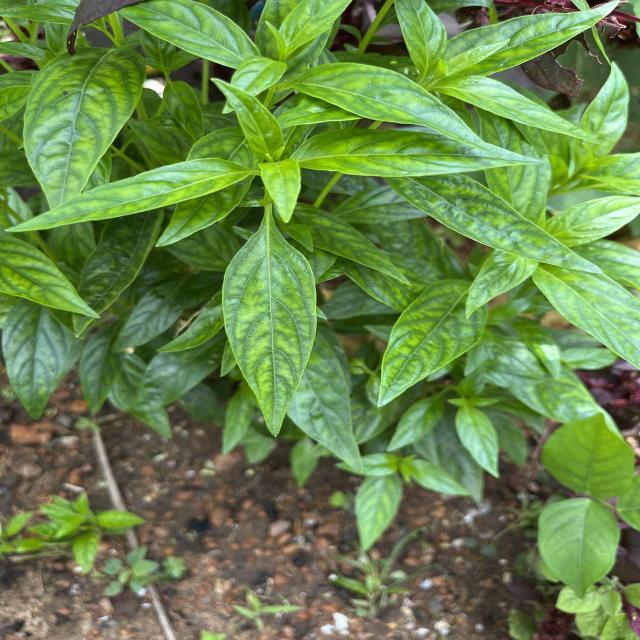Andrographis paniculata: (394, 172, 607, 280), (23, 44, 148, 210), (219, 235, 320, 438), (286, 60, 494, 154), (3, 158, 251, 232), (374, 276, 488, 411), (444, 1, 640, 75), (430, 72, 612, 150), (293, 128, 546, 178), (283, 204, 414, 286), (123, 0, 260, 62), (207, 76, 284, 161)
